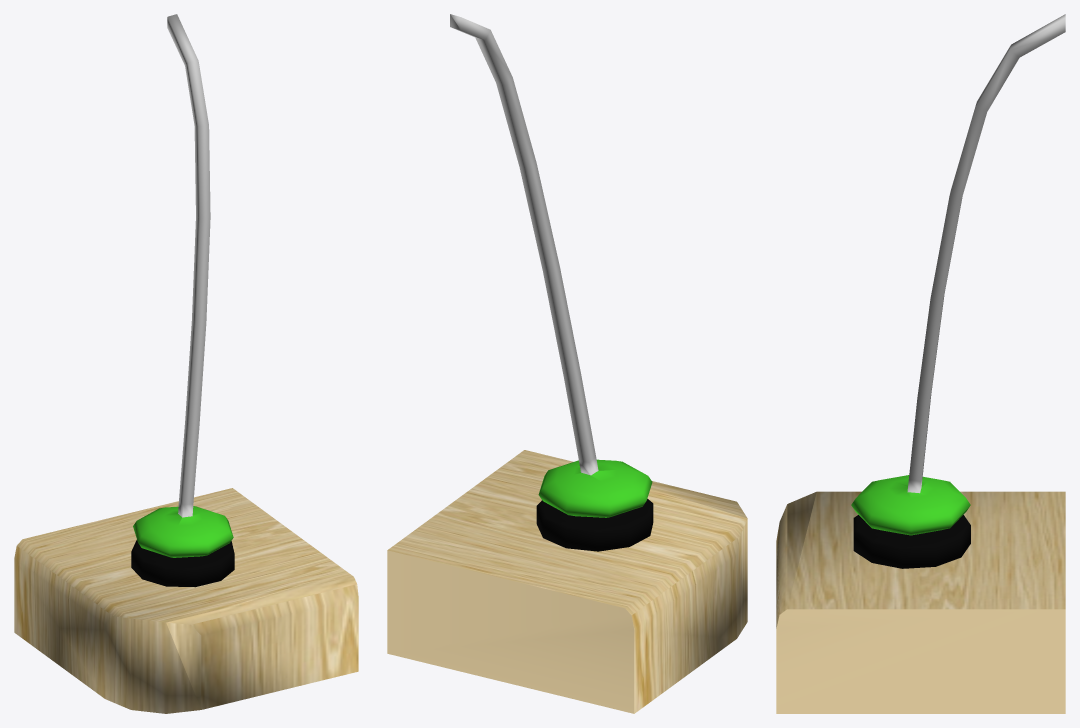
Rendered from 6_Motorikschleife_sm.fbx.
The picture shows the model from 3 angles, left to right: view 1: azimuth 30°, elevation 25°; view 2: azimuth 150°, elevation 25°; view 3: azimuth 270°, elevation 25°; orthographic projection. The views are drawn at different scales.
Visible parts, largest first — view 1: Cube.006; view 2: Cube.006; view 3: Cube.006.
Boxes of the visible parts, x1,y1,x2,y2 form: Cube.006: (14, 14, 358, 713); Cube.006: (387, 14, 747, 713); Cube.006: (776, 14, 1065, 713).
Bounding box in the file's own units: 500 × 1267 × 500.
